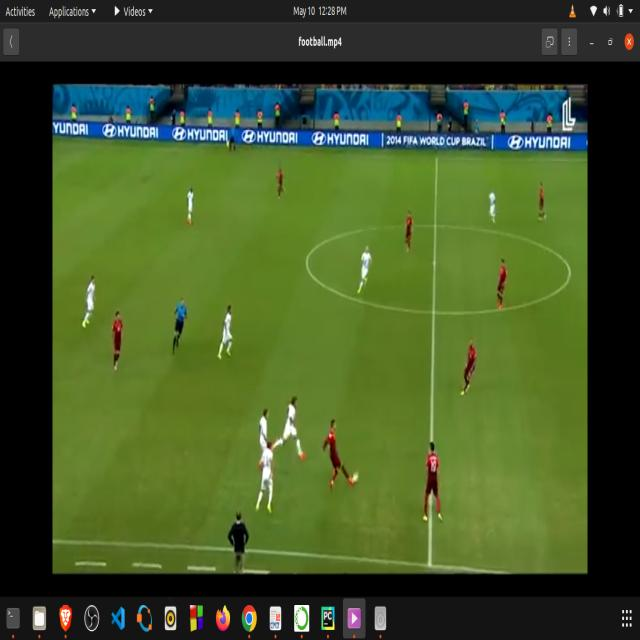Ball: (353, 470, 360, 486)
Refree: (170, 290, 190, 360)
football-players: (274, 386, 309, 466), (322, 411, 351, 490), (421, 436, 443, 525), (255, 438, 274, 518), (216, 299, 238, 365), (81, 269, 102, 334), (460, 334, 480, 400), (110, 306, 128, 371), (356, 245, 374, 299), (494, 254, 510, 314), (256, 404, 273, 455), (486, 186, 502, 228), (402, 204, 416, 251), (536, 176, 549, 224), (185, 182, 198, 226), (276, 164, 288, 203)
